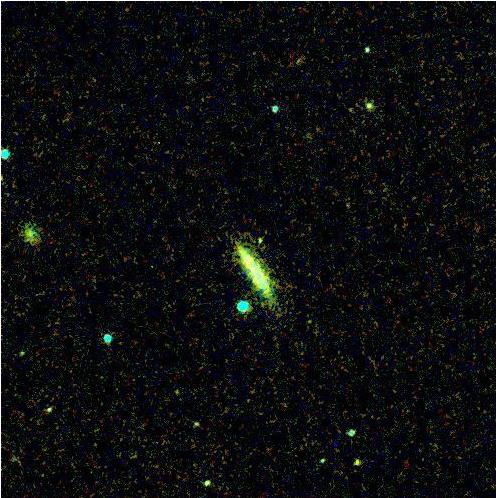star: (247, 220, 277, 250)
